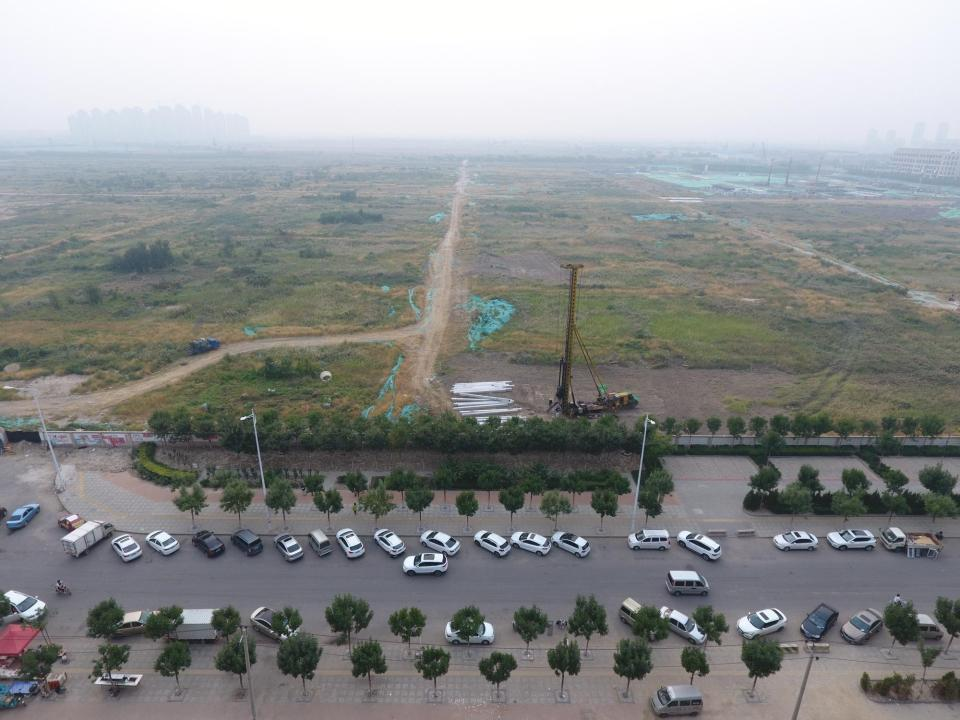car: (657, 605, 708, 645), (251, 606, 300, 644), (0, 589, 48, 624), (736, 608, 788, 640), (841, 608, 884, 646), (108, 609, 163, 638), (800, 603, 839, 642), (677, 530, 722, 560), (445, 621, 495, 644), (826, 528, 877, 550), (473, 529, 511, 558), (419, 530, 461, 556), (402, 553, 448, 576), (627, 528, 670, 552), (551, 532, 590, 558), (510, 532, 552, 556), (374, 528, 406, 558), (192, 530, 226, 558), (6, 503, 40, 531), (773, 530, 818, 551), (336, 528, 366, 558), (110, 534, 142, 562), (145, 530, 180, 555), (274, 532, 304, 561), (58, 514, 86, 532)
truck: (161, 609, 222, 645), (880, 526, 944, 560), (61, 520, 115, 558), (186, 338, 220, 356)
van: (618, 597, 660, 642), (651, 685, 703, 717), (899, 613, 944, 640), (666, 570, 709, 596), (230, 530, 264, 557), (306, 529, 332, 557)
